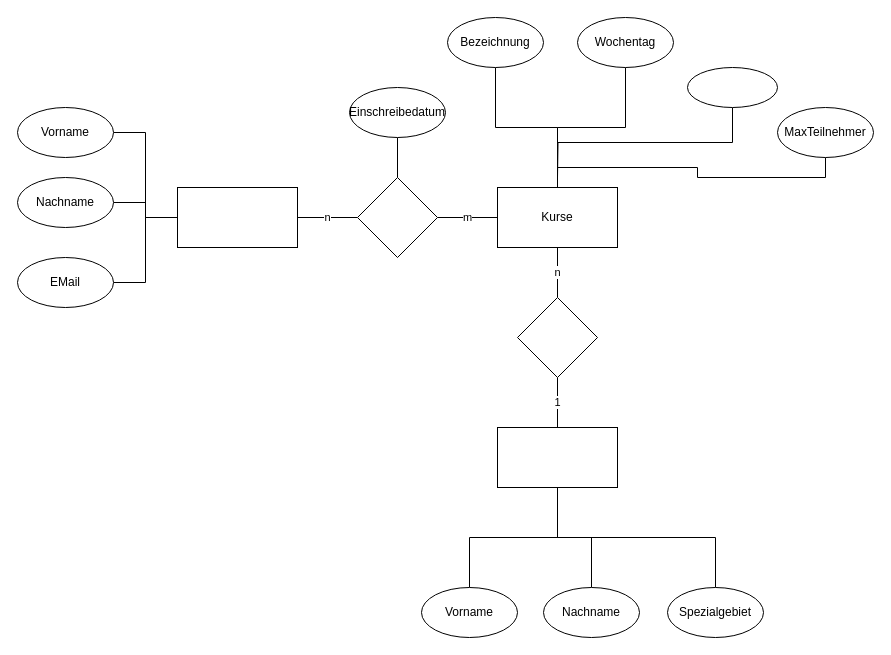
This 891x655 diagram has some shape labels left out. The shapes that lost their labels are listed below. From the top down, each one's centre as x and y in pixels, then its label:
At [732,87]: "Uhrzeit".
At [237,217]: "Mitglied".
At [397,217]: "einschreiben".
At [557,337]: "leitet".
At [557,457]: "Trainer".
